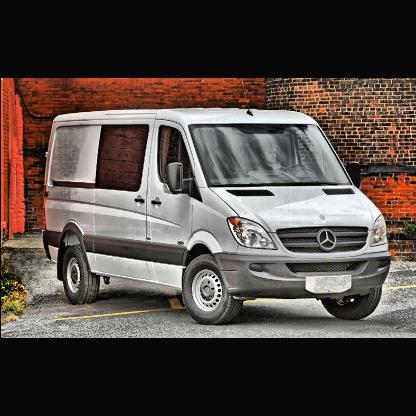Mercedes-Benz Sprinter Van 2012: (41, 78, 391, 326)
